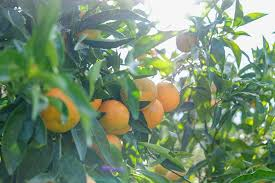orange: (36, 86, 81, 132), (93, 96, 133, 137), (154, 78, 180, 112), (138, 100, 166, 130), (128, 74, 159, 101)
